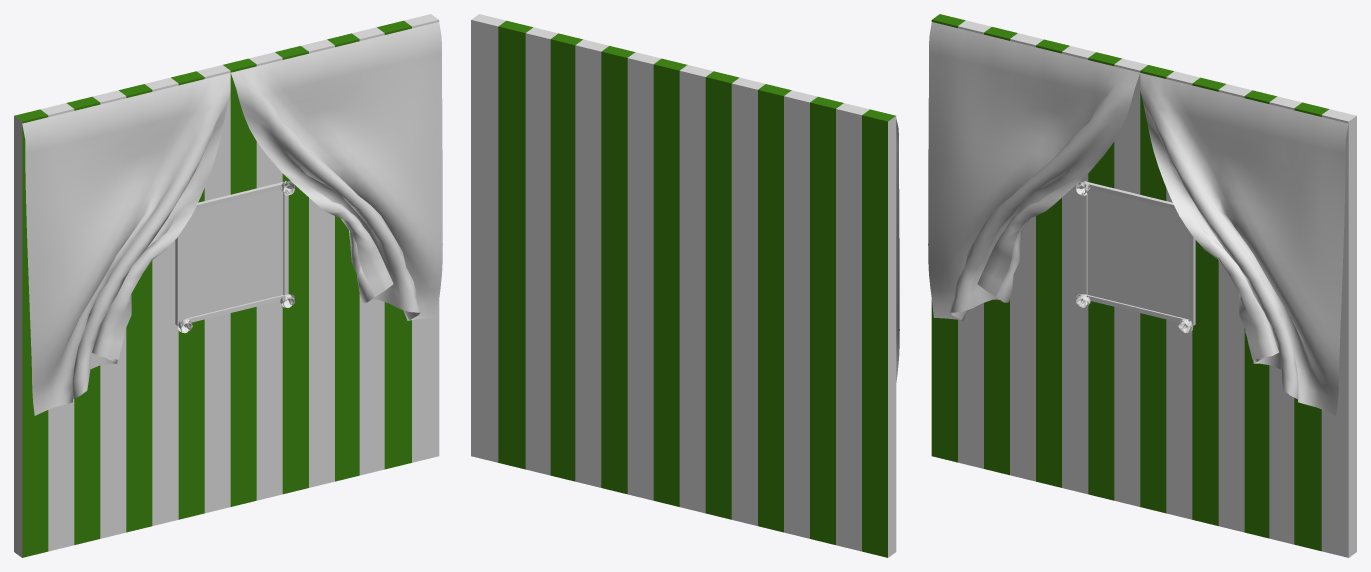
The model's file is Paredcuadro_flores.fbx.
3 renders of one model, left to right at view 1: azimuth 30°, elevation 25°; view 2: azimuth 150°, elevation 25°; view 3: azimuth 330°, elevation 25°, orthographic.
Visible parts, largest first — view 1: Cube, Cortinas, Cube.001, Plane.001; view 2: Cube, Cortinas; view 3: Cube, Cortinas, Cube.001, Plane.001.
Boxes of the visible parts, x1=… form: Cube: x1=14, y1=14, x2=439, y2=557; Cortinas: x1=22, y1=22, x2=442, y2=415; Cube.001: x1=175, y1=181, x2=288, y2=325; Plane.001: x1=177, y1=181, x2=294, y2=333; Cube: x1=471, y1=14, x2=896, y2=557; Cortinas: x1=896, y1=119, x2=899, y2=381; Cube: x1=931, y1=14, x2=1356, y2=557; Cortinas: x1=928, y1=22, x2=1348, y2=415; Cube.001: x1=1082, y1=181, x2=1195, y2=325; Plane.001: x1=1076, y1=181, x2=1193, y2=333.
Bounding box in the file's own units: 300 × 34.66 × 300.
